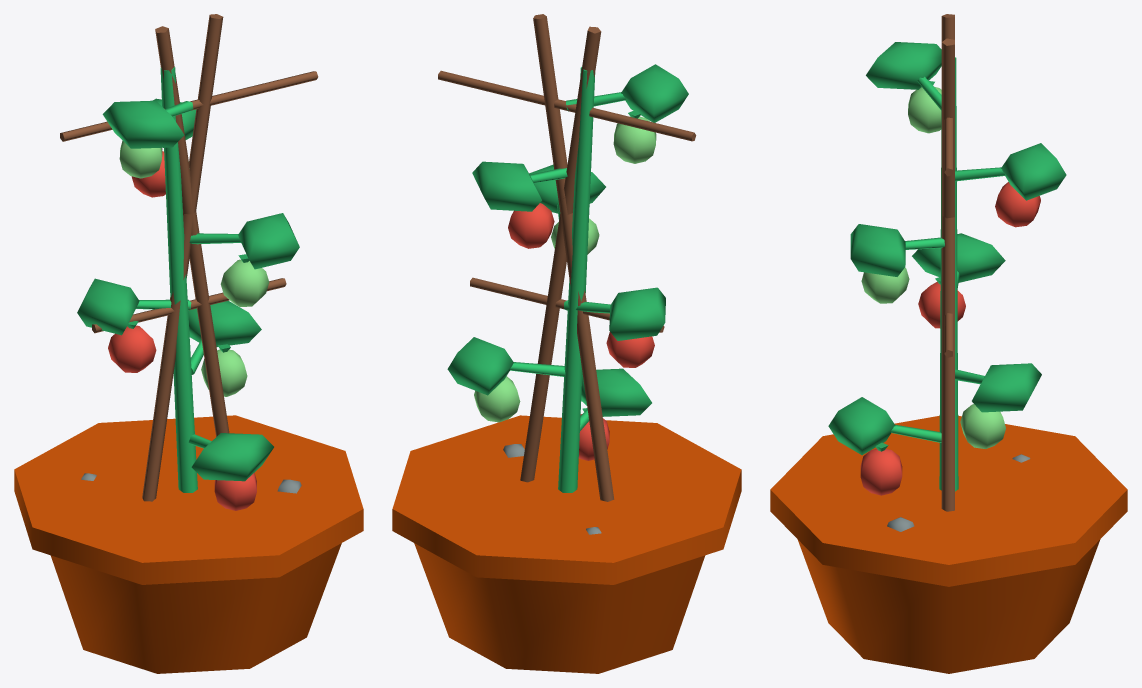
Rendered from tomato.glb.
The picture shows the model from 3 angles, left to right: view 1: azimuth 30°, elevation 25°; view 2: azimuth 150°, elevation 25°; view 3: azimuth 270°, elevation 25°; orthographic projection.
Parts seen in each view (by area): view 1: rim, pot, tomato_vine, trellis_stake_1, trellis_stake_2, branch_5, branch_0, branch_3, branch_2, branch_1, tomato_fruit_2, trellis_bar_2 (+6 smaller); view 2: rim, pot, tomato_vine, trellis_stake_1, trellis_stake_2, branch_1, branch_4, branch_5, branch_2, trellis_bar_2, branch_0, tomato_fruit_4 (+6 smaller); view 3: rim, pot, trellis_stake_2, branch_5, branch_0, branch_4, branch_3, branch_1, branch_2, trellis_stake_1, tomato_vine, tomato_fruit_0 (+5 smaller).
Part boxes in pixels (left/top/right/bottom): rim: left=14, top=415, right=363, bottom=584; pot: left=50, top=543, right=341, bottom=673; tomato_vine: left=160, top=67, right=197, bottom=492; trellis_stake_1: left=142, top=14, right=223, bottom=501; trellis_stake_2: left=155, top=26, right=229, bottom=436; branch_5: left=102, top=100, right=193, bottom=148; branch_0: left=188, top=433, right=273, bottom=481; branch_3: left=189, top=213, right=299, bottom=269; branch_2: left=77, top=278, right=191, bottom=335; branch_1: left=188, top=300, right=261, bottom=374; tomato_fruit_2: left=108, top=325, right=156, bottom=372; trellis_bar_2: left=60, top=71, right=318, bottom=141; rim: left=392, top=415, right=741, bottom=584; pot: left=414, top=543, right=705, bottom=673; tomato_vine: left=558, top=67, right=595, bottom=492; trellis_stake_1: left=533, top=14, right=614, bottom=501; trellis_stake_2: left=520, top=26, right=601, bottom=482; branch_1: left=447, top=337, right=565, bottom=395; branch_4: left=472, top=161, right=567, bottom=211; branch_5: left=566, top=64, right=688, bottom=122; branch_2: left=564, top=287, right=665, bottom=340; trellis_bar_2: left=438, top=70, right=696, bottom=141; branch_0: left=580, top=368, right=651, bottom=430; tomato_fruit_4: left=508, top=203, right=554, bottom=248; rim: left=770, top=415, right=1127, bottom=586; pot: left=797, top=539, right=1100, bottom=673; trellis_stake_2: left=941, top=14, right=954, bottom=511; branch_5: left=866, top=42, right=941, bottom=110; branch_0: left=828, top=397, right=941, bottom=455; branch_4: left=955, top=143, right=1066, bottom=200; branch_3: left=850, top=224, right=944, bottom=276; branch_1: left=955, top=363, right=1041, bottom=412; branch_2: left=912, top=233, right=1005, bottom=289; trellis_stake_1: left=941, top=38, right=954, bottom=218; tomato_vine: left=939, top=57, right=958, bottom=491; tomato_fruit_0: left=860, top=448, right=902, bottom=495.
Bounding box in the file's own units: 0.74 × 1.36 × 0.74.
